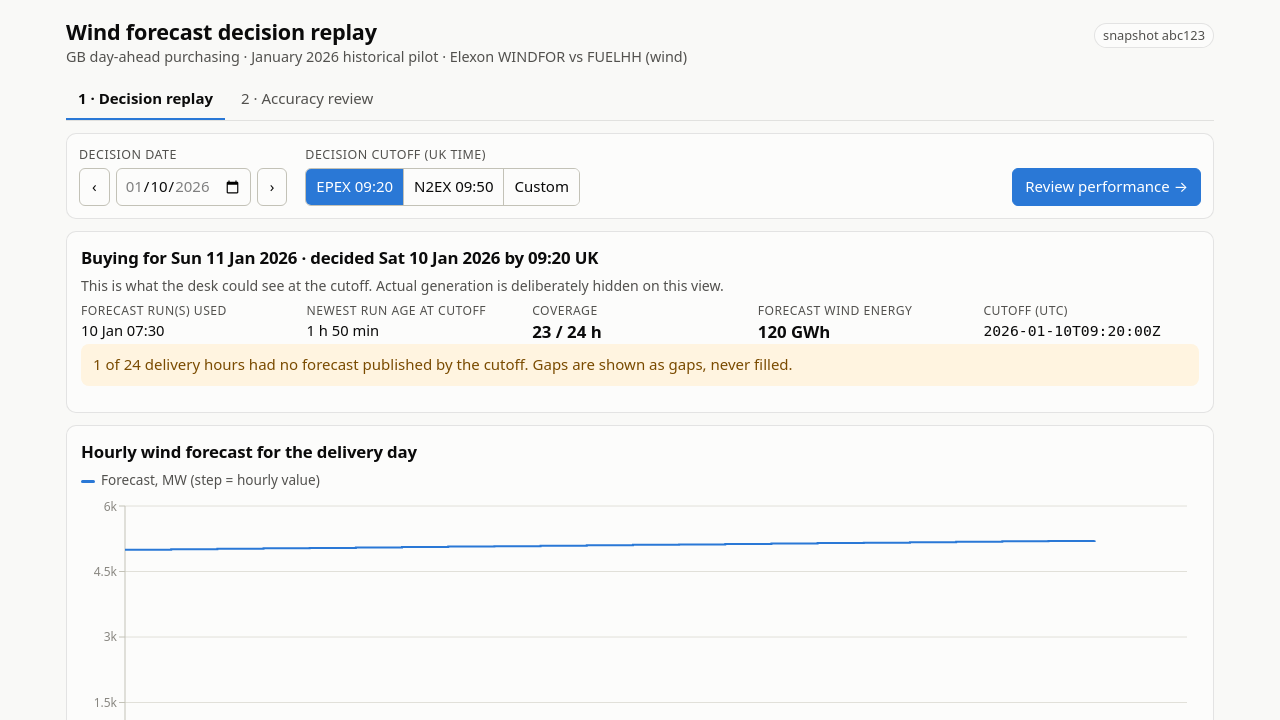
Test case: App › changing the cutoff preset updates the URL and selects a different run
The width and height of the screenshot is (1280, 720).
expect the heading "Buying for" is shown: met, box left=81, top=246, right=171, bottom=269
What coordinates should you click on to do the following:
click the button "N2EX 09:50"
I would click on:
 (454, 187)
Its box is left=404, top=169, right=504, bottom=205.
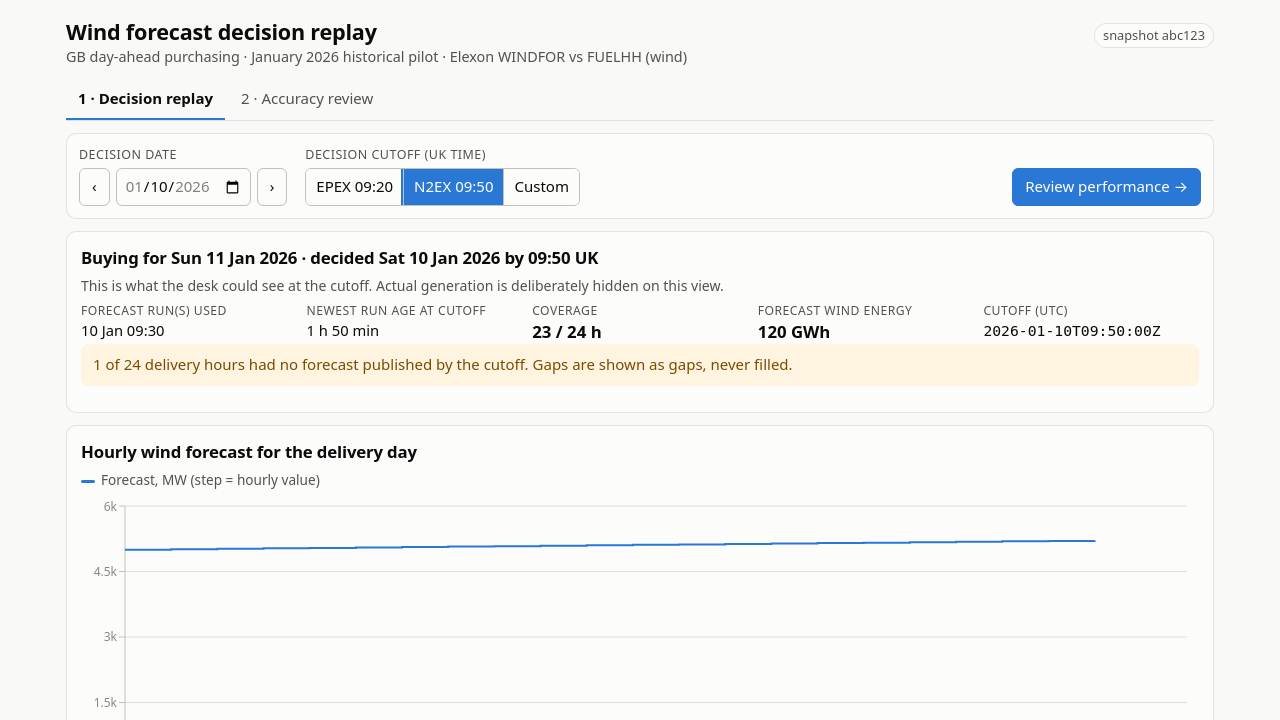
expect the text "10 Jan 09:30" is shown: met, box left=81, top=320, right=164, bottom=340
expect the text "10 Jan 07:30" is gone: met
